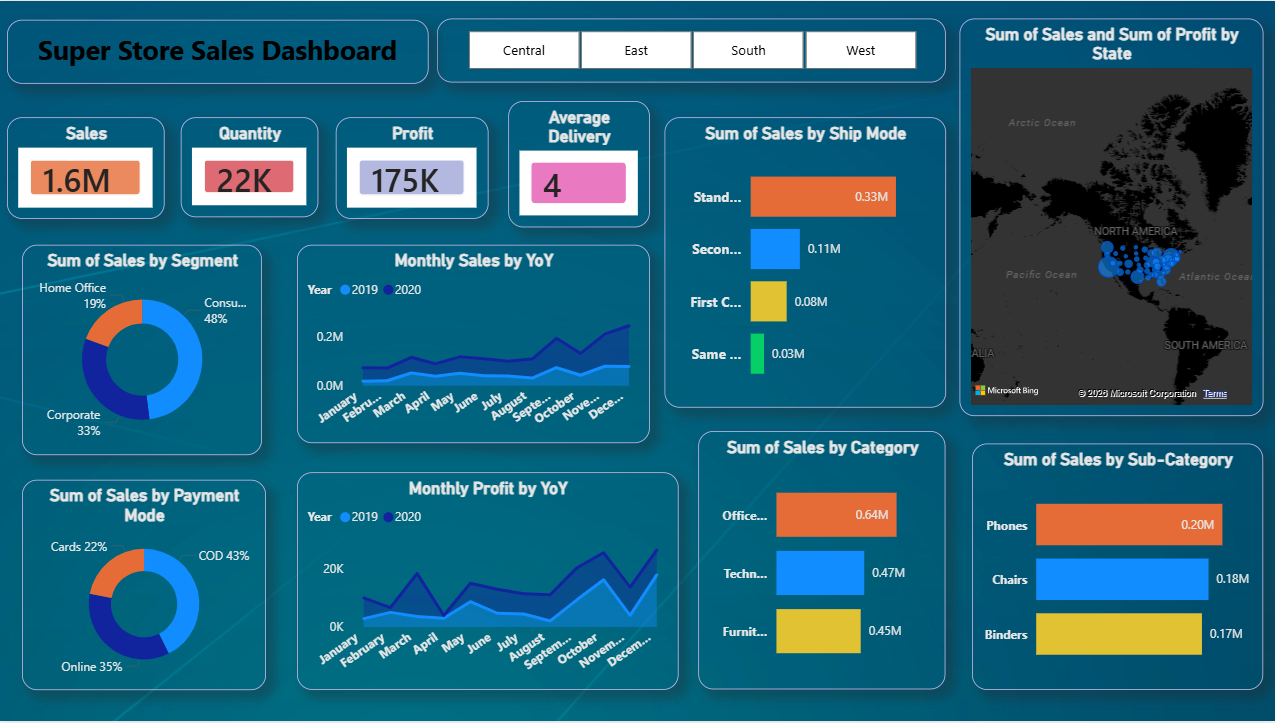

This screenshot's page, from the dashboard's own definition file:
{"tool":"powerbi","page":{"name":"Report","canvas":[1280,720],"ordinal":0},"visuals":[{"type":"clusteredBarChart","fields":{"Category":["SuperStore_Sales_Dataset.Category"],"Y":["Sum(SuperStore_Sales_Dataset.Sales)"]},"box":[701.2,430,247.5,258.8],"z":0},{"type":"clusteredBarChart","fields":{"Category":["SuperStore_Sales_Dataset.Sub-Category"],"Y":["Sum(SuperStore_Sales_Dataset.Sales)"]},"box":[975,442.5,291.2,246.2],"z":1000},{"type":"clusteredBarChart","fields":{"Y":["Sum(SuperStore_Sales_Dataset.Sales)"],"Category":["SuperStore_Sales_Dataset.Ship Mode"]},"box":[667.5,116.2,281.2,290],"z":2000},{"type":"stackedAreaChart","title":"Monthly Sales by YoY","fields":{"Y":["Sum(SuperStore_Sales_Dataset.Sales)"],"Series":["SuperStore_Sales_Dataset.Order Date.Variation.Date Hierarchy.Year"],"Category":["SuperStore_Sales_Dataset.Order Date.Variation.Date Hierarchy.Month","SuperStore_Sales_Dataset.Order Date.Variation.Date Hierarchy.Day"]},"box":[300,243.8,352.5,198.8],"z":3000},{"type":"stackedAreaChart","title":"Monthly Profit by YoY","fields":{"Series":["SuperStore_Sales_Dataset.Order Date.Variation.Date Hierarchy.Year"],"Category":["SuperStore_Sales_Dataset.Order Date.Variation.Date Hierarchy.Month","SuperStore_Sales_Dataset.Order Date.Variation.Date Hierarchy.Day"],"Y":["Sum(SuperStore_Sales_Dataset.Profit)"]},"box":[300,471.2,381.2,217.5],"z":4000},{"type":"map","fields":{"Category":["SuperStore_Sales_Dataset.State"],"Size":["Sum(SuperStore_Sales_Dataset.Sales)"]},"box":[962.5,17.5,303.8,397.5],"z":5000},{"type":"donutChart","fields":{"Category":["SuperStore_Sales_Dataset.Segment"],"Y":["Sum(SuperStore_Sales_Dataset.Sales)"]},"box":[25,243.8,240,210],"z":6000},{"type":"donutChart","fields":{"Y":["Sum(SuperStore_Sales_Dataset.Sales)"],"Category":["SuperStore_Sales_Dataset.Payment Mode"]},"box":[25,478.8,243.8,210],"z":7000},{"type":"slicer","fields":{"Values":["SuperStore_Sales_Dataset.Region"]},"box":[440,17.5,508.8,63.8],"z":8000},{"type":"textbox","box":[10,18.8,421.2,63.8],"z":9000},{"type":"cardVisual","title":"Sales","fields":{"Data":["Sum(SuperStore_Sales_Dataset.Sales)"]},"box":[10,116.2,157.5,101.2],"z":10000},{"type":"cardVisual","title":"Quantity","fields":{"Data":["Sum(SuperStore_Sales_Dataset.Quantity)"]},"box":[183.8,116.2,137.5,100],"z":11000},{"type":"cardVisual","title":"Profit","fields":{"Data":["Sum(SuperStore_Sales_Dataset.Profit)"]},"box":[338.8,116.2,152.5,101.2],"z":12000},{"type":"cardVisual","title":"Average Delivery","fields":{"Data":["Avg(SuperStore_Sales_Dataset.AvgDelivery)"]},"box":[511.2,100,141.2,126.2],"z":13000}]}

Visuals, with their boxes in screenshot pixels (x1, y1, x2, y2), scaled from the page's 1280x720 canvas onto the 1275x723 screenshot:
clusteredBarChart - SuperStore_Sales_Dataset.Category x Sum(SuperStore_Sales_Dataset.Sales): box=[698, 432, 945, 692]
clusteredBarChart - SuperStore_Sales_Dataset.Sub-Category x Sum(SuperStore_Sales_Dataset.Sales): box=[971, 444, 1261, 692]
clusteredBarChart - Sum(SuperStore_Sales_Dataset.Sales) x SuperStore_Sales_Dataset.Ship Mode: box=[665, 117, 945, 408]
"Monthly Sales by YoY" stackedAreaChart: box=[299, 245, 650, 444]
"Monthly Profit by YoY" stackedAreaChart: box=[299, 473, 679, 692]
map - SuperStore_Sales_Dataset.State x Sum(SuperStore_Sales_Dataset.Sales): box=[959, 18, 1261, 417]
donutChart - SuperStore_Sales_Dataset.Segment x Sum(SuperStore_Sales_Dataset.Sales): box=[25, 245, 264, 456]
donutChart - Sum(SuperStore_Sales_Dataset.Sales) x SuperStore_Sales_Dataset.Payment Mode: box=[25, 481, 268, 692]
slicer - SuperStore_Sales_Dataset.Region: box=[438, 18, 945, 82]
textbox: box=[10, 19, 430, 83]
"Sales" cardVisual: box=[10, 117, 167, 218]
"Quantity" cardVisual: box=[183, 117, 320, 217]
"Profit" cardVisual: box=[337, 117, 489, 218]
"Average Delivery" cardVisual: box=[509, 100, 650, 227]
